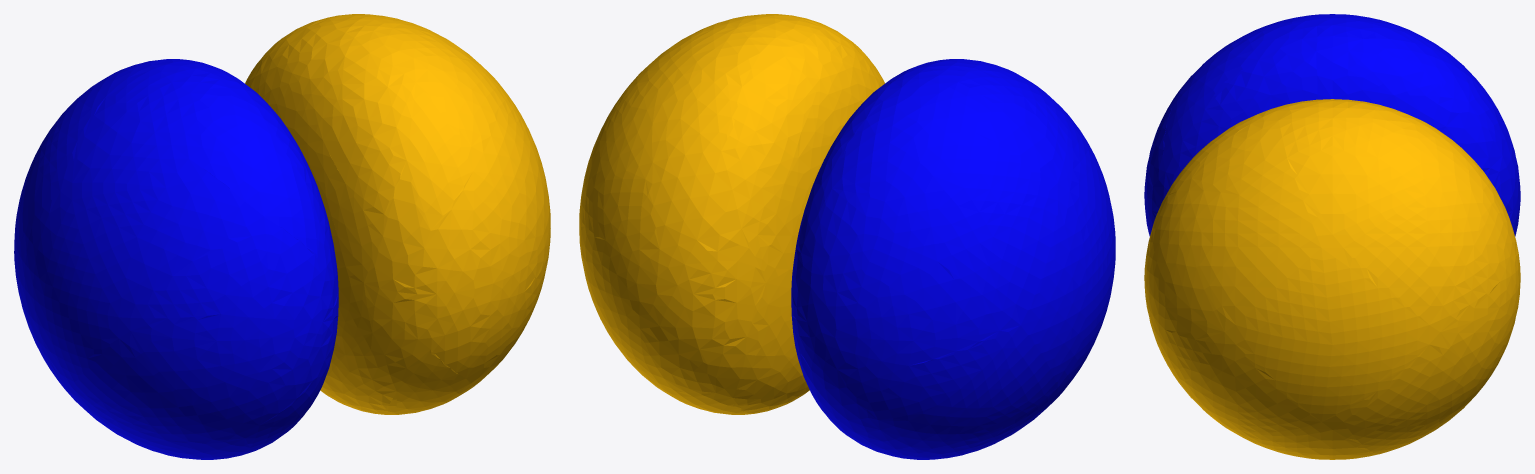
3 renders of one model, left to right at view 1: azimuth 30°, elevation 25°; view 2: azimuth 150°, elevation 25°; view 3: azimuth 270°, elevation 25°, orthographic. The views are drawn at different scales.
Size of the model in its own units: 11.95 by 8.8 by 8.79.
